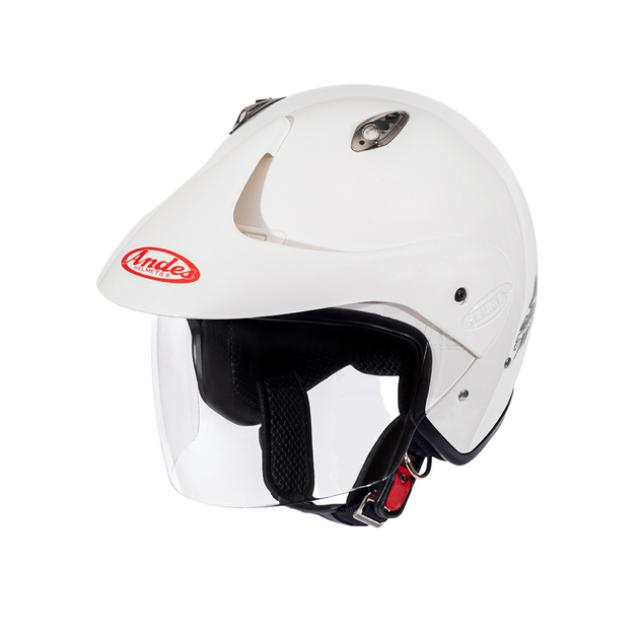Helmet: (92, 79, 545, 529)
